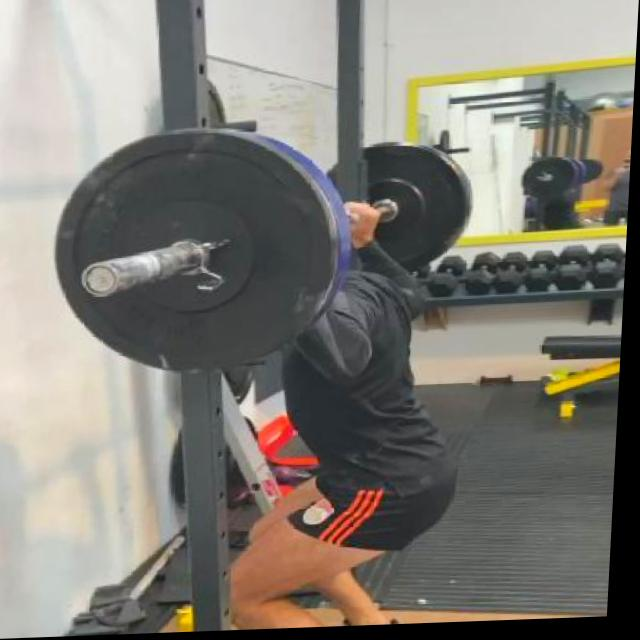barbell: (49, 125, 344, 383)
